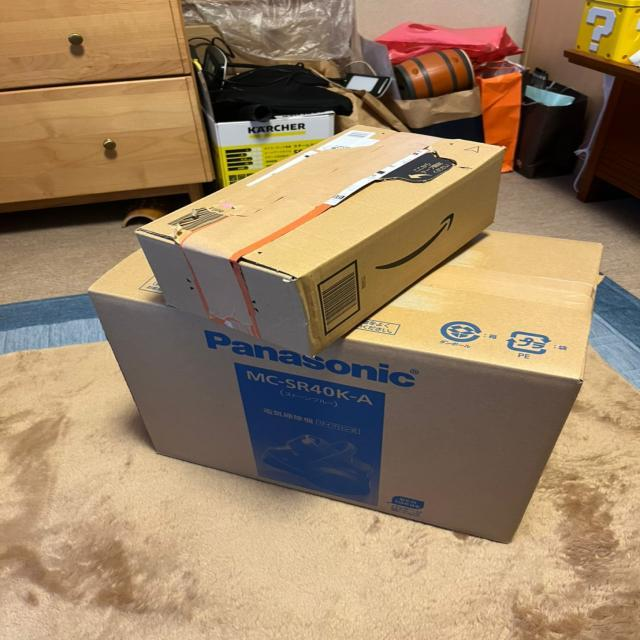-: (80, 195, 614, 548), (135, 122, 517, 360)
